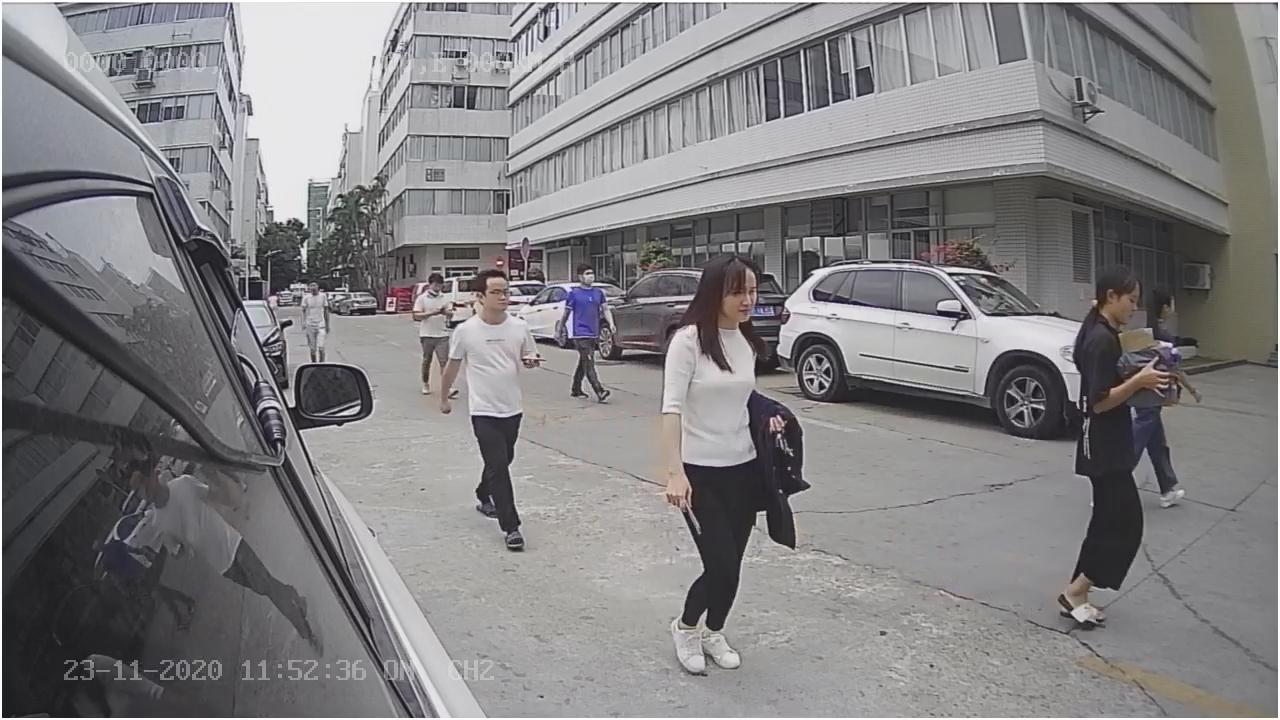person: (659, 253, 776, 674), (1061, 273, 1145, 620), (442, 263, 536, 549)
